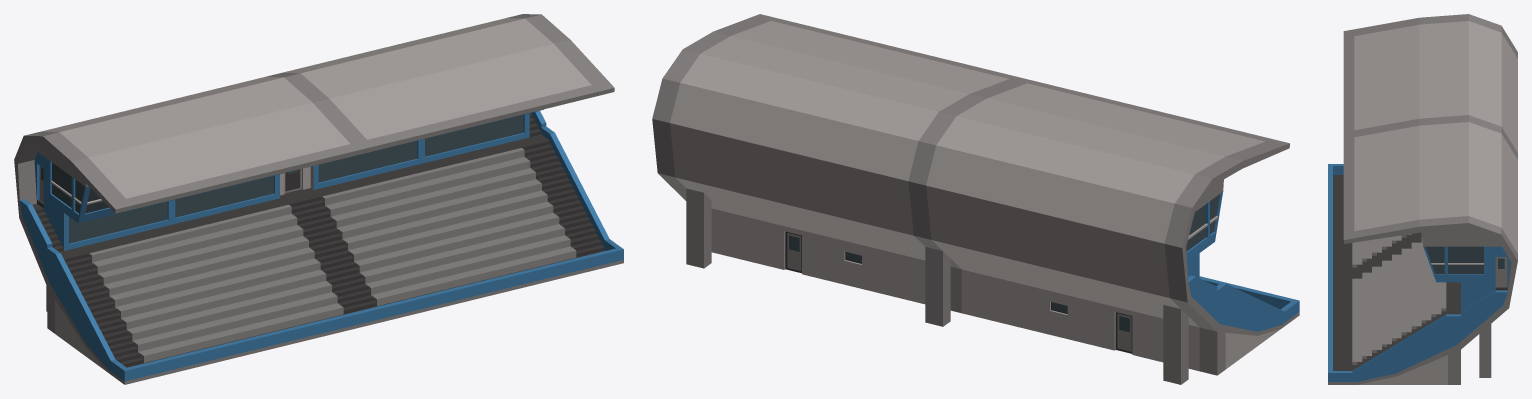
File: racing_tribune-streight.fbx
The picture shows the model from 3 angles, left to right: view 1: azimuth 30°, elevation 25°; view 2: azimuth 150°, elevation 25°; view 3: azimuth 270°, elevation 25°; orthographic projection. The views are drawn at different scales.
Visible parts, largest first — view 1: racing_tribune_streight; view 2: racing_tribune_streight; view 3: racing_tribune_streight.
Boxes of the visible parts, left/top/right/bottom form: racing_tribune_streight: left=14, top=14, right=623, bottom=384; racing_tribune_streight: left=652, top=14, right=1299, bottom=384; racing_tribune_streight: left=1328, top=14, right=1517, bottom=384.
Size of the model in its own units: 200 by 72.28 by 76.82.
